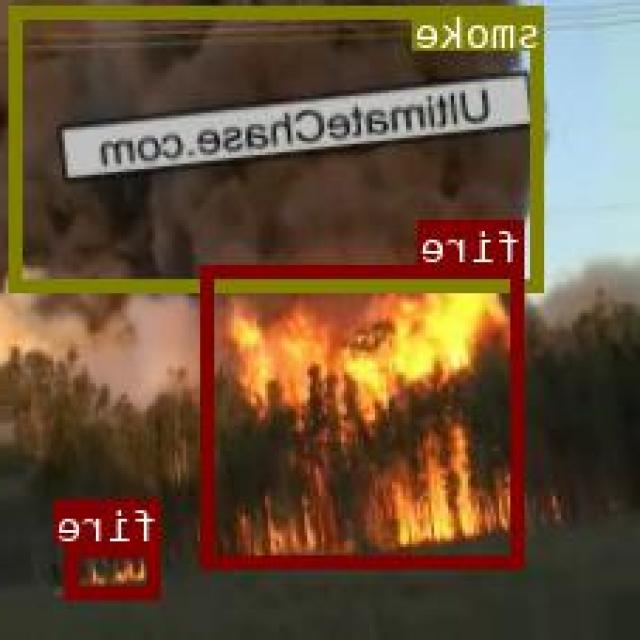fire: (206, 264, 526, 566), (69, 542, 164, 595)
smoke: (14, 3, 545, 290)
